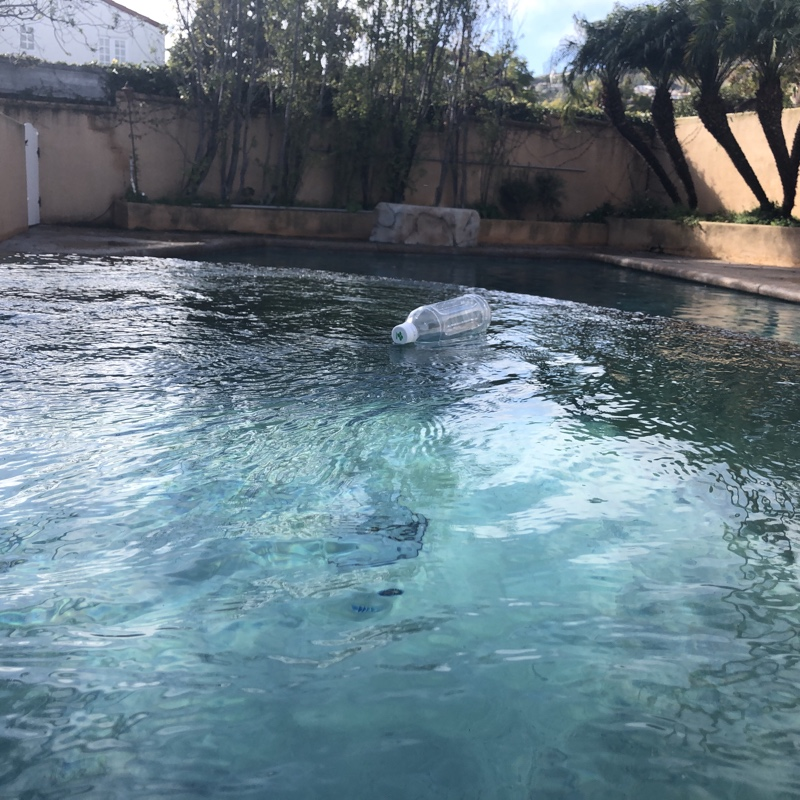Plastic Bottle: (388, 289, 494, 350)
